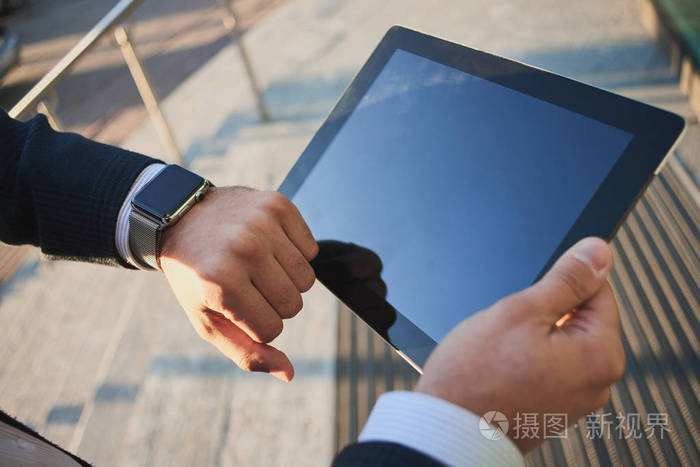pad: (192, 8, 690, 428)
